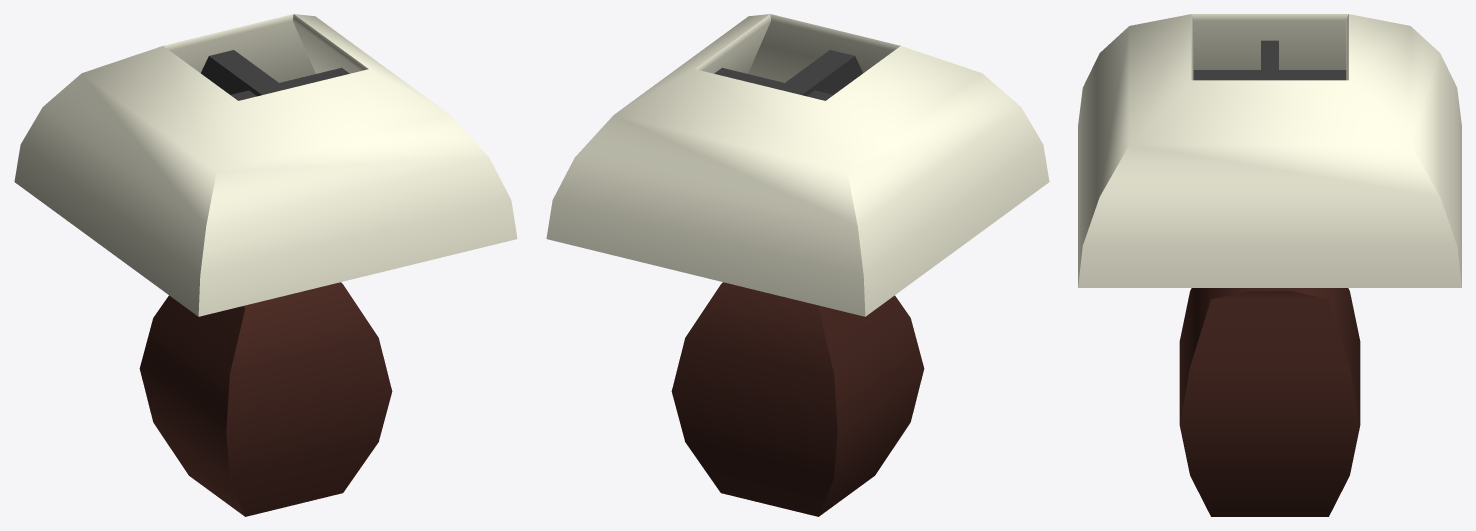
The model's file is lamp_012.glb.
The picture shows the model from 3 angles, left to right: view 1: azimuth 30°, elevation 25°; view 2: azimuth 150°, elevation 25°; view 3: azimuth 270°, elevation 25°; orthographic projection. The views are drawn at different scales.
Parts seen in each view (by area): view 1: lamp_012; view 2: lamp_012; view 3: lamp_012.
Part boxes in pixels (x1,y1,x2,y2): lamp_012: (14, 14, 517, 516); lamp_012: (546, 14, 1049, 516); lamp_012: (1078, 14, 1461, 516).
Bounding box in the file's own units: 0.4493 × 0.5746 × 0.4493.
1 material, 1 textured.
